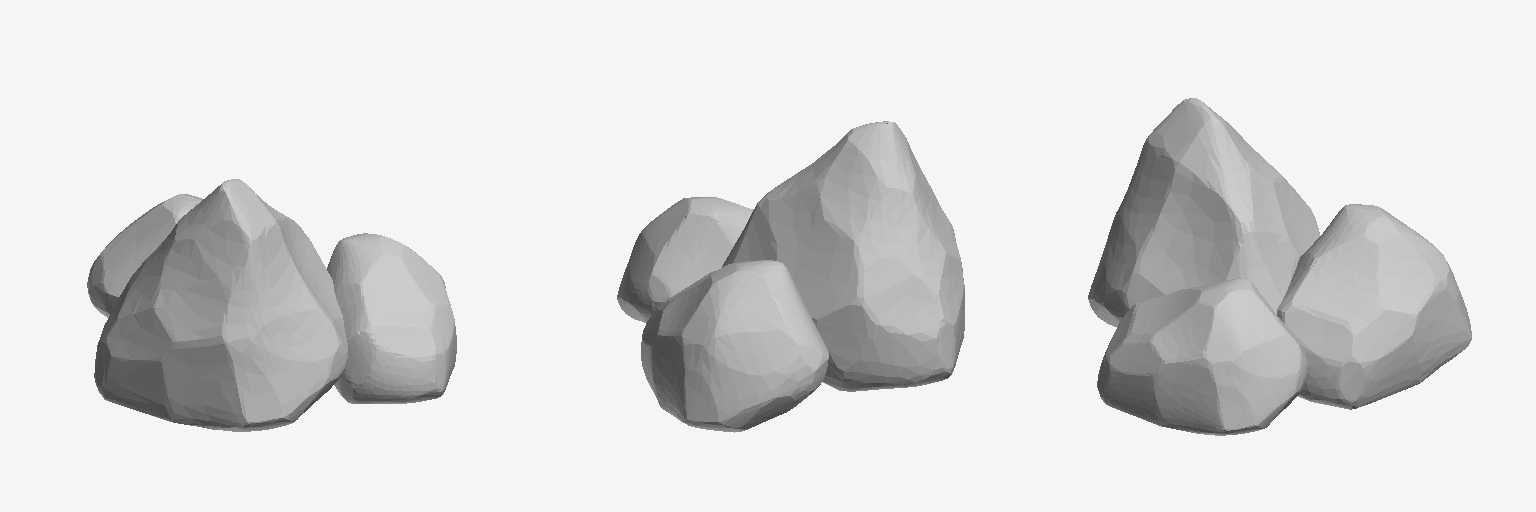
File: small_rock_group_1.obj
3 renders of one model, left to right at view 1: azimuth 30°, elevation 25°; view 2: azimuth 150°, elevation 25°; view 3: azimuth 270°, elevation 25°, orthographic.
Parts seen in each view (by area): view 1: small_rock_group; view 2: small_rock_group; view 3: small_rock_group.
Boxes of the visible parts, x1=… form: small_rock_group: x1=87, y1=179, x2=456, y2=431; small_rock_group: x1=617, y1=121, x2=964, y2=432; small_rock_group: x1=1088, y1=98, x2=1471, y2=435.
Bounding box in the file's own units: 4.82 × 3.27 × 4.72.